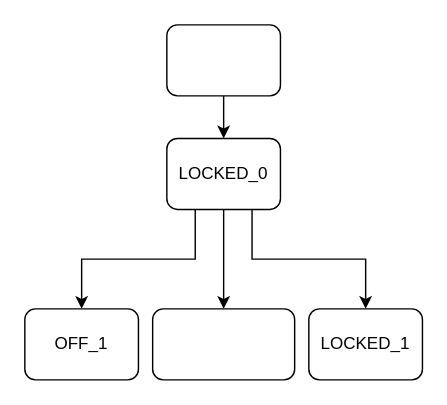
Image size: 447x405. Some labels were removed from this diagram. The centre of each missing label's shape, as x and y in pixels:
"OFF_0" belongs at (x=222, y=59).
"UNLOCKED_0" belongs at (x=223, y=343).
